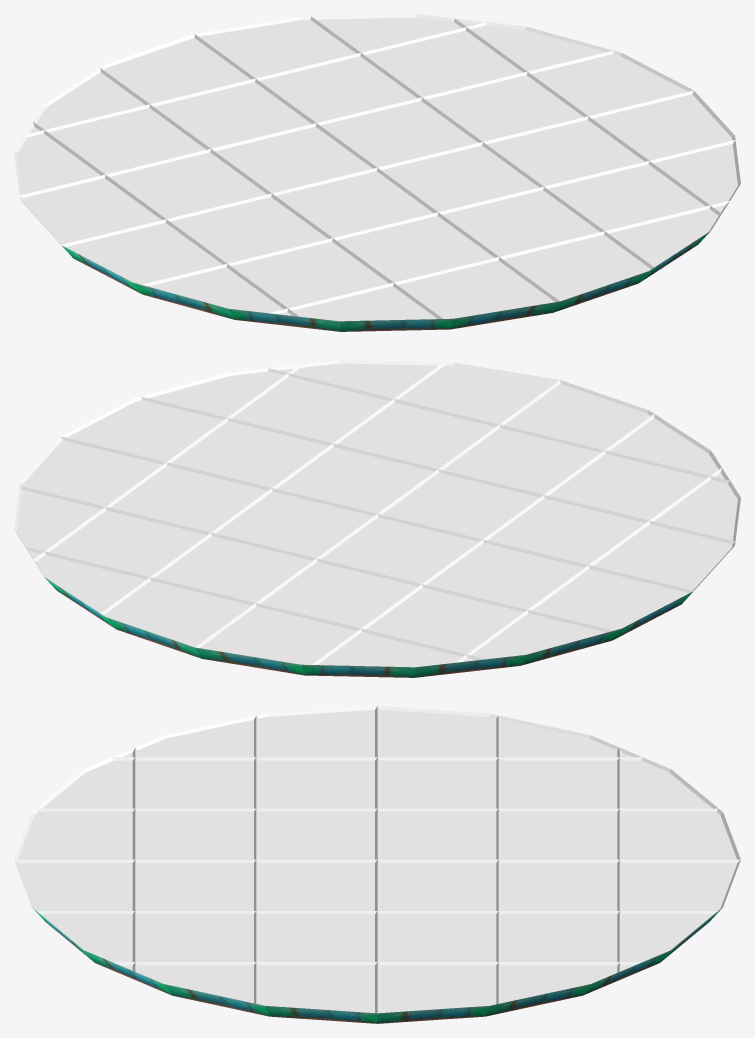
File: mirrorl_bake.dae
The picture shows the model from 3 angles, top to bottom: view 1: azimuth 30°, elevation 25°; view 2: azimuth 150°, elevation 25°; view 3: azimuth 270°, elevation 25°; orthographic projection.
Visible parts, largest first — view 1: m0, m1; view 2: m0, m1; view 3: m0, m1.
Boxes of the visible parts, bbox=[...] form: m0: bbox=[14, 14, 740, 321]; m1: bbox=[61, 231, 710, 331]; m0: bbox=[14, 360, 740, 667]; m1: bbox=[44, 577, 693, 677]; m0: bbox=[14, 706, 740, 1013]; m1: bbox=[32, 907, 722, 1023].
Bounding box in the file's own units: 3000 × 510 × 3000.
Materials: 3 (2 with a texture image).
